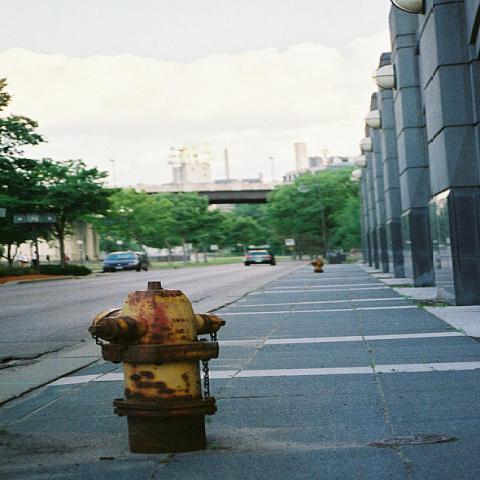car: (98, 252, 148, 274), (243, 250, 276, 266)
